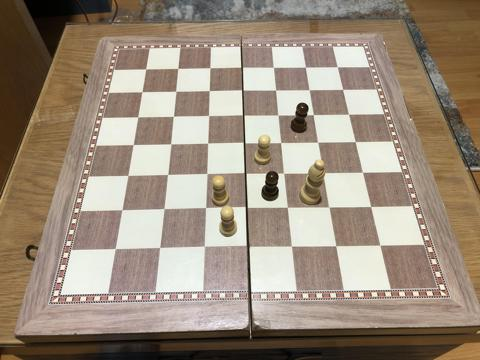xcorner: (332, 61, 344, 73), (300, 61, 312, 73), (268, 62, 280, 74), (236, 62, 248, 74), (172, 63, 184, 75), (140, 63, 152, 75), (338, 84, 350, 96), (304, 84, 316, 96), (237, 85, 249, 97), (203, 85, 215, 97), (136, 86, 148, 98), (344, 109, 356, 121), (308, 109, 320, 121), (238, 110, 250, 122), (167, 111, 179, 123), (132, 111, 144, 123), (313, 137, 325, 149), (276, 137, 288, 149), (239, 138, 251, 150), (202, 138, 214, 150), (127, 139, 139, 151), (358, 167, 370, 179), (279, 168, 291, 180), (201, 169, 213, 181), (161, 169, 173, 181), (122, 170, 134, 182), (367, 202, 379, 214), (325, 202, 337, 214), (158, 204, 170, 216), (332, 241, 344, 253), (243, 242, 255, 254), (199, 243, 211, 255), (154, 243, 166, 255), (110, 244, 122, 256), (204, 63, 216, 74), (270, 85, 282, 96), (170, 86, 181, 98), (273, 110, 285, 121), (203, 110, 214, 122), (351, 136, 362, 148), (164, 139, 176, 150), (319, 168, 331, 179), (240, 169, 252, 180), (283, 203, 295, 214), (242, 203, 253, 215), (200, 204, 212, 215), (116, 205, 128, 216), (376, 241, 388, 252), (287, 242, 299, 253)
